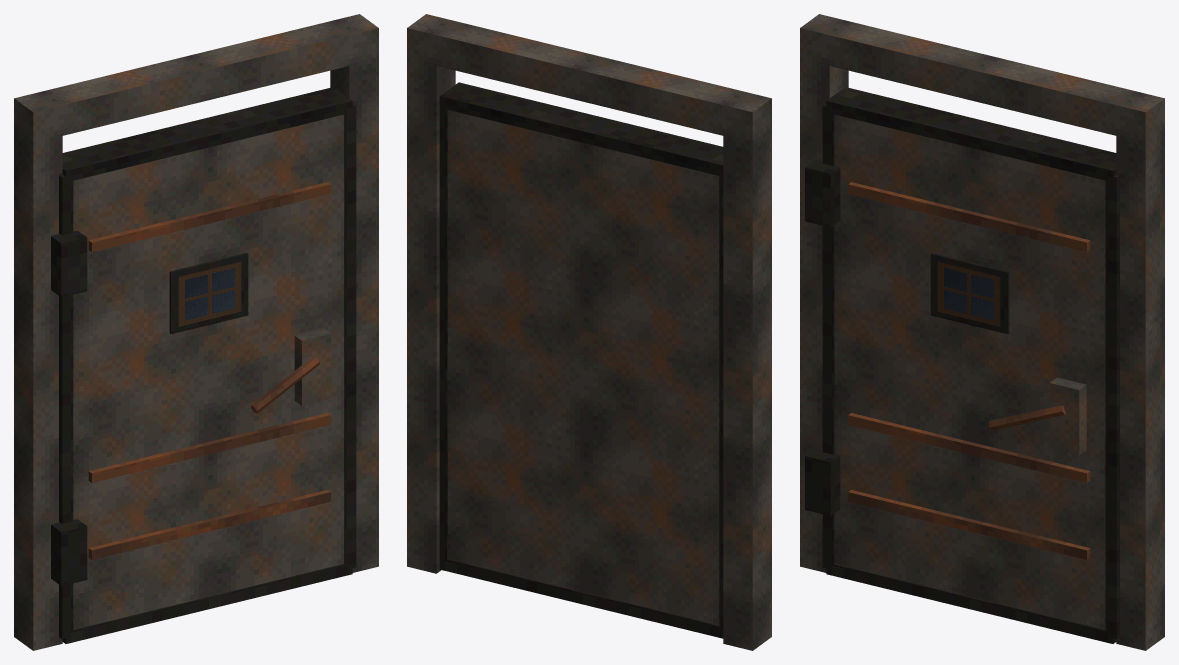
Rendered from puerta_frigorifica.obj.
3 renders of one model, left to right at view 1: azimuth 30°, elevation 25°; view 2: azimuth 150°, elevation 25°; view 3: azimuth 330°, elevation 25°, orthographic.
Visible parts, largest first — view 1: puerta_frigorifica; view 2: puerta_frigorifica; view 3: puerta_frigorifica.
Part boxes in pixels (<box>): puerta_frigorifica: <box>14,14,378,650</box>; puerta_frigorifica: <box>407,14,771,650</box>; puerta_frigorifica: <box>800,14,1164,650</box>.
Size of the model in its own units: 1.88 by 2.8 by 0.3448.
Materials: 4 (4 with a texture image).
